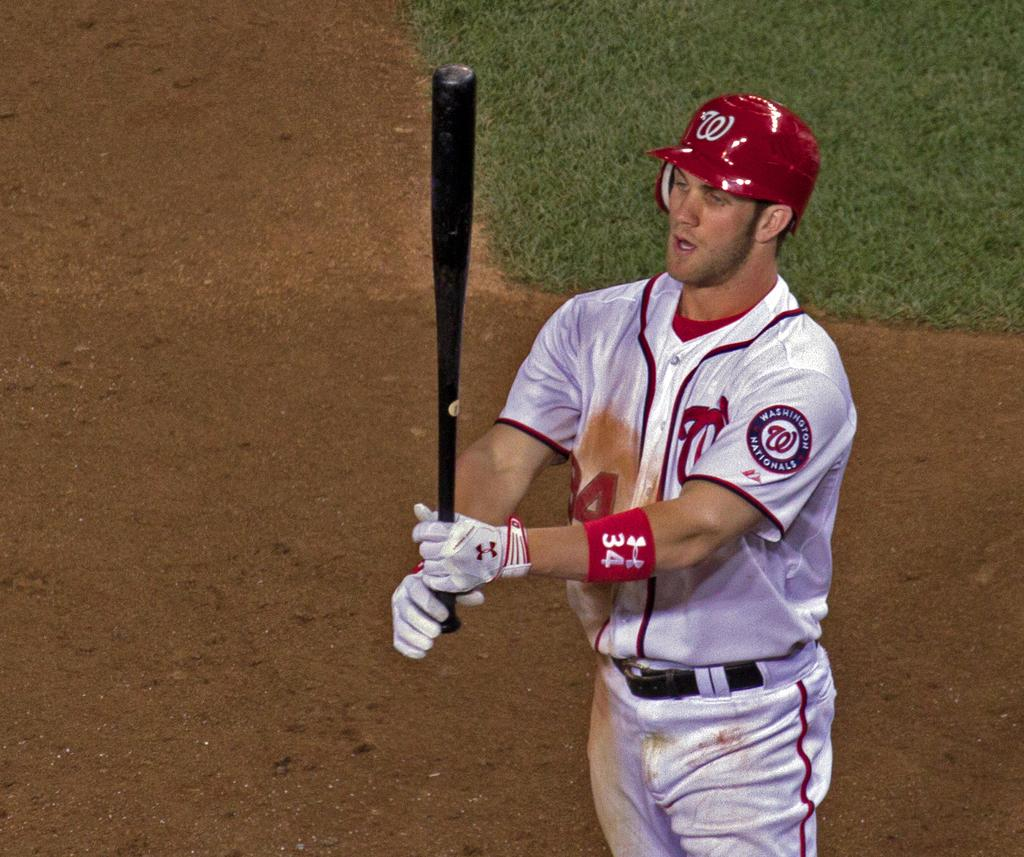Hat: (647, 91, 819, 235)
